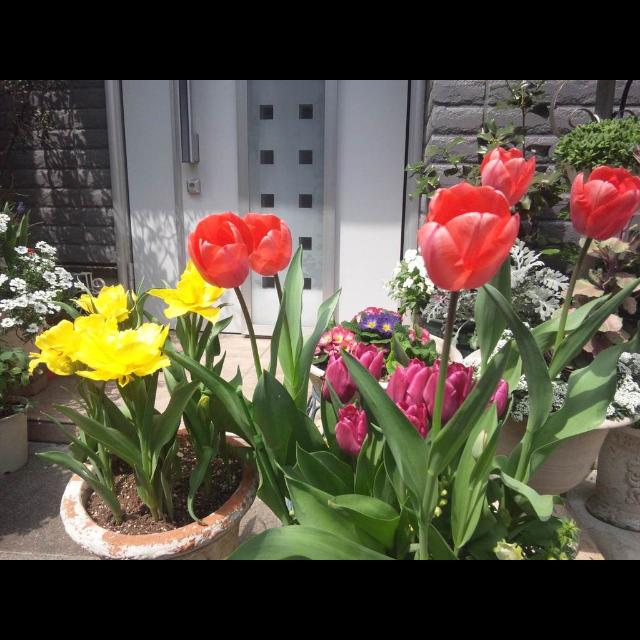Flower: (420, 179, 524, 291), (70, 318, 170, 390), (563, 159, 639, 249), (144, 258, 226, 328), (182, 210, 252, 292), (478, 146, 536, 208), (24, 317, 80, 377), (248, 210, 292, 278), (423, 363, 472, 422), (74, 283, 136, 321), (348, 339, 384, 398), (388, 357, 430, 407), (316, 349, 354, 403), (334, 403, 368, 457), (396, 402, 426, 438), (487, 371, 509, 417), (406, 324, 434, 346), (378, 314, 402, 336), (358, 308, 378, 334), (330, 326, 354, 346), (362, 305, 386, 317), (317, 329, 329, 348)
